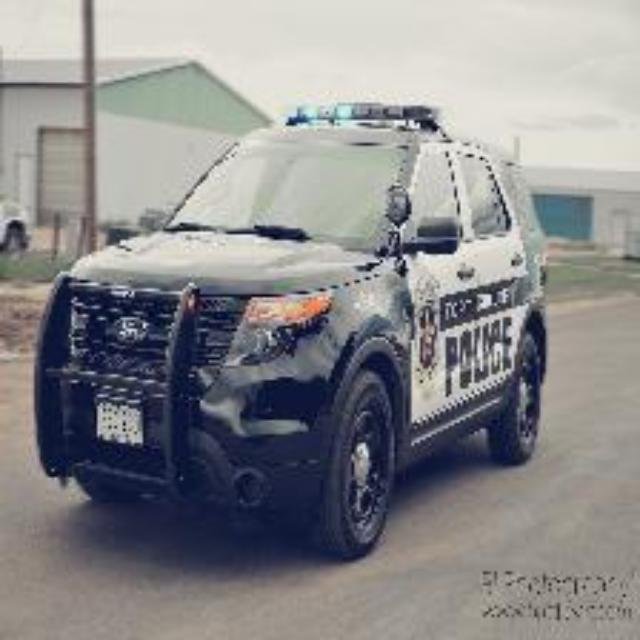emergency: (25, 98, 552, 562)
